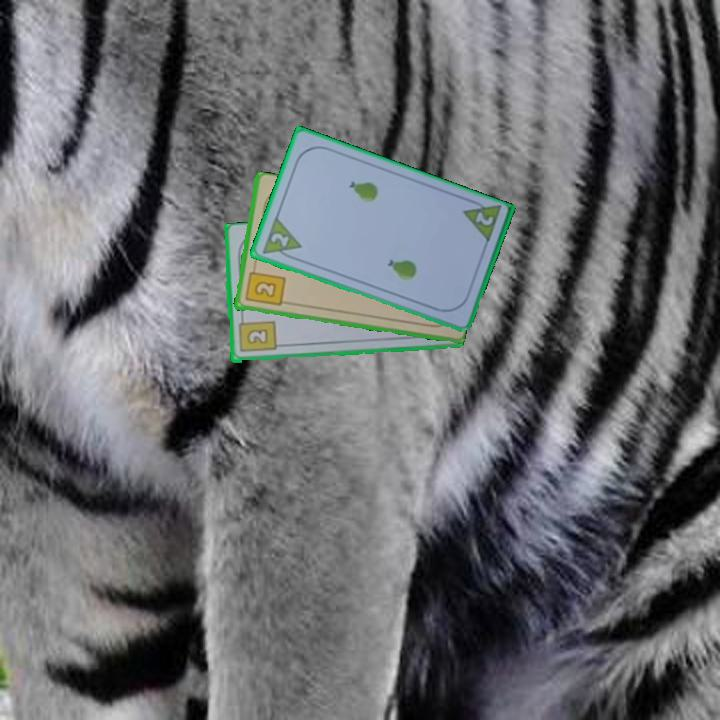2b: (242, 263, 287, 309), (235, 313, 278, 355)
2p: (267, 229, 292, 250), (471, 208, 496, 229)
